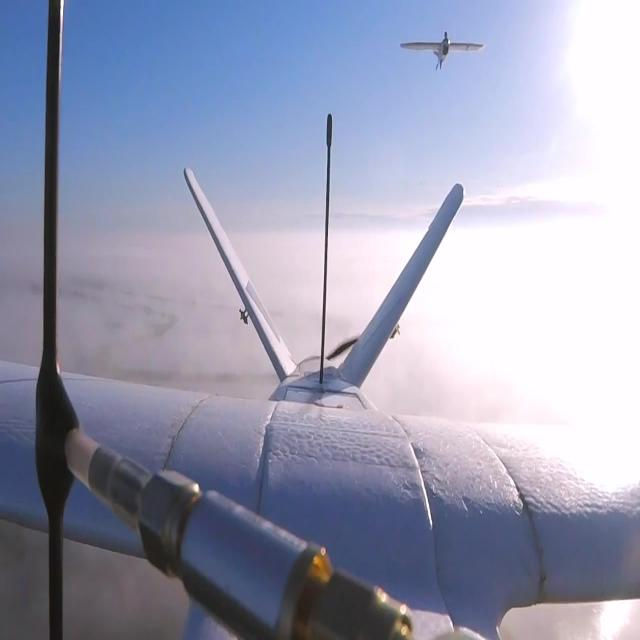iha: (430, 29, 454, 73)
